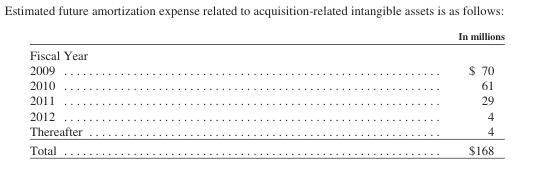table: (28, 29, 503, 156)
table column: (28, 29, 269, 156), (269, 29, 503, 156)
table column header: (28, 29, 503, 44)
table projected row header: (28, 44, 503, 62)
table row: (28, 44, 503, 62), (28, 122, 503, 139), (28, 139, 503, 156), (28, 29, 503, 44), (28, 62, 503, 77), (28, 77, 503, 92), (28, 92, 503, 107), (28, 107, 503, 122)
